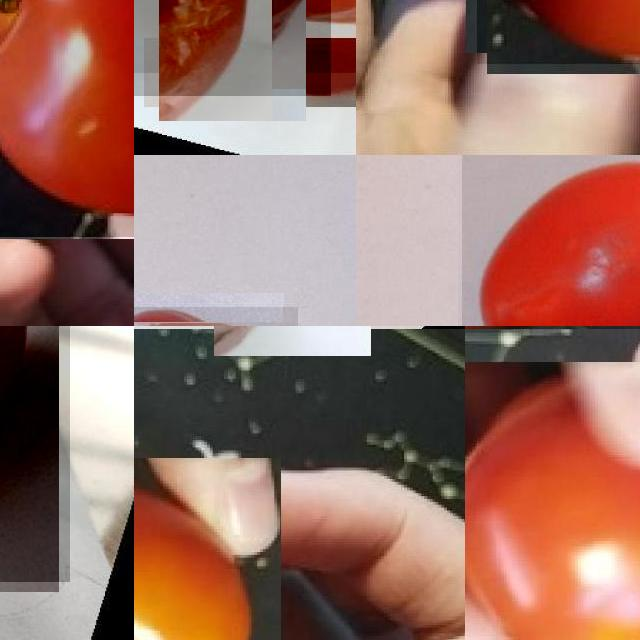0: (0, 0, 134, 237)
Fresh Tomato: (465, 361, 640, 640), (462, 155, 640, 326), (134, 457, 281, 640), (476, 0, 640, 63)
Rotten Tomato: (134, 0, 331, 96), (0, 326, 69, 582)
